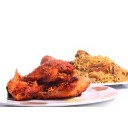briyani: (8, 47, 128, 95)
